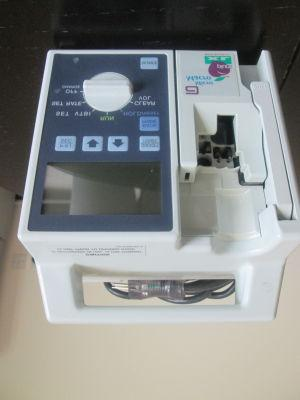plumxl1: (21, 37, 297, 330)
